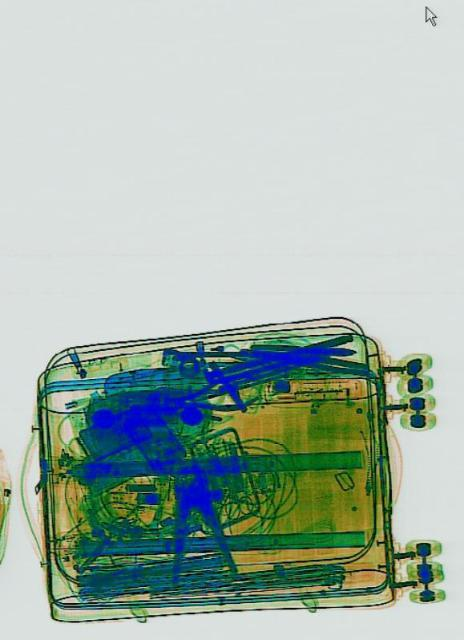Pliers: (157, 460, 235, 588), (154, 358, 256, 424), (264, 338, 367, 376)
